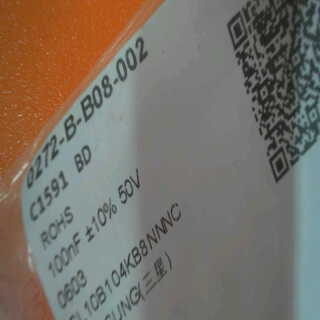100nF: (44, 230, 83, 279)
